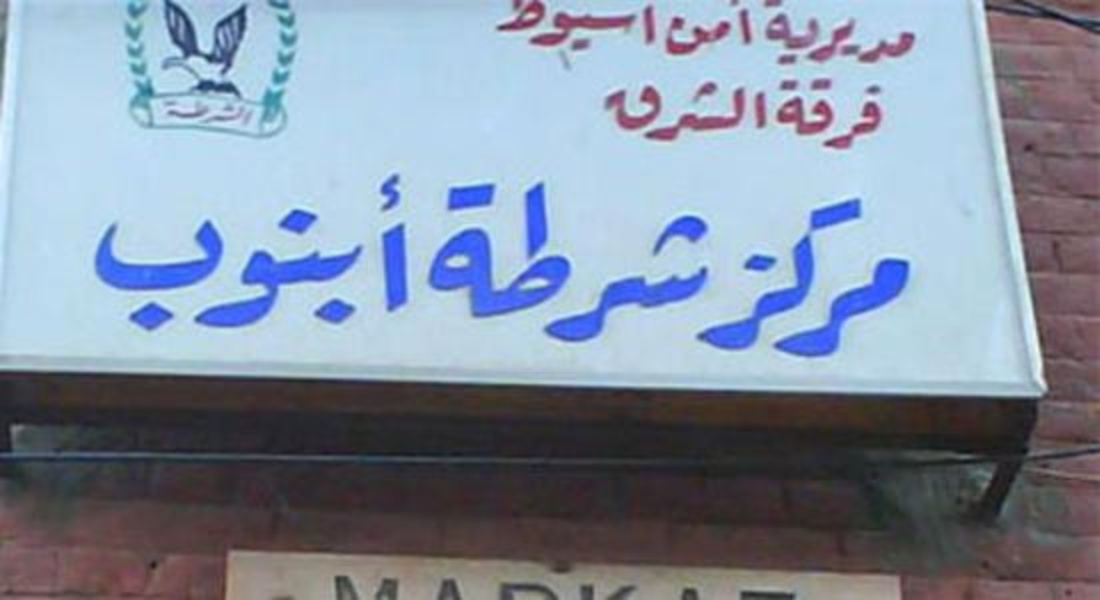text: (897, 191, 913, 367), (753, 191, 768, 367), (769, 191, 784, 367), (785, 191, 800, 367), (801, 191, 816, 367), (817, 191, 832, 367), (833, 191, 848, 367), (849, 191, 864, 367), (865, 191, 880, 367), (881, 191, 896, 367), (433, 179, 448, 353), (449, 179, 464, 353), (465, 179, 480, 353), (481, 179, 496, 353), (497, 179, 512, 353), (513, 179, 528, 353), (529, 179, 544, 353), (545, 179, 560, 353), (561, 179, 576, 353), (577, 179, 592, 353), (593, 179, 608, 353), (609, 179, 624, 353), (625, 179, 640, 353), (641, 179, 656, 353), (657, 179, 672, 353), (673, 179, 688, 353), (689, 179, 704, 353), (705, 179, 720, 353), (97, 167, 112, 337), (113, 167, 128, 337), (129, 167, 144, 337), (145, 167, 160, 337), (161, 167, 176, 337), (177, 167, 192, 337), (193, 167, 208, 337), (209, 167, 224, 337), (225, 167, 240, 337), (241, 167, 256, 337), (257, 167, 272, 337), (273, 167, 288, 337), (289, 167, 304, 337), (305, 167, 320, 337), (321, 167, 336, 337), (337, 167, 352, 337), (353, 167, 368, 337), (369, 167, 384, 337), (385, 167, 400, 337), (421, 179, 432, 353), (401, 167, 411, 337), (785, 75, 800, 157), (801, 75, 816, 157), (817, 75, 832, 157), (833, 75, 848, 157), (849, 75, 864, 157), (865, 75, 880, 157), (769, 1, 784, 75), (785, 1, 800, 75), (801, 1, 816, 75), (817, 1, 832, 75), (833, 1, 848, 75), (849, 1, 864, 75), (865, 1, 880, 75), (881, 1, 896, 75), (897, 1, 912, 75), (609, 75, 624, 145), (625, 75, 640, 145), (641, 75, 656, 145), (657, 75, 672, 145), (673, 75, 688, 145), (689, 75, 704, 145), (705, 75, 720, 145), (721, 75, 736, 145), (737, 75, 752, 145), (753, 75, 768, 145), (673, 1, 688, 59), (689, 1, 704, 59), (705, 1, 720, 59), (721, 1, 736, 59), (737, 1, 752, 59), (513, 1, 528, 59), (529, 1, 544, 59), (545, 1, 560, 59), (561, 1, 576, 59), (577, 1, 592, 59), (593, 1, 608, 59), (609, 1, 624, 59), (625, 1, 640, 59), (641, 1, 656, 59), (91, 167, 96, 337), (498, 1, 512, 59), (721, 179, 725, 353), (777, 75, 784, 157), (241, 97, 257, 129), (161, 97, 176, 129), (177, 97, 192, 129), (193, 97, 208, 129), (209, 97, 224, 129), (225, 97, 240, 129), (737, 569, 753, 599), (321, 569, 336, 599), (337, 569, 352, 599), (353, 569, 368, 599), (369, 569, 384, 599), (385, 569, 400, 599), (401, 569, 416, 599), (417, 569, 432, 599), (433, 569, 448, 599), (449, 569, 464, 599), (465, 569, 480, 599), (481, 569, 496, 599), (497, 569, 512, 599), (513, 569, 528, 599), (529, 569, 544, 599), (545, 569, 560, 599), (561, 569, 576, 599), (577, 569, 592, 599), (593, 569, 608, 599), (609, 569, 624, 599), (625, 569, 640, 599), (641, 569, 656, 599), (657, 569, 672, 599), (673, 569, 688, 599), (689, 569, 704, 599), (705, 569, 720, 599), (721, 569, 736, 599), (763, 1, 768, 75), (881, 75, 885, 157), (913, 1, 917, 75), (667, 1, 672, 59), (753, 1, 757, 59), (605, 75, 608, 145), (751, 191, 752, 367), (769, 75, 771, 145), (657, 1, 659, 59)
